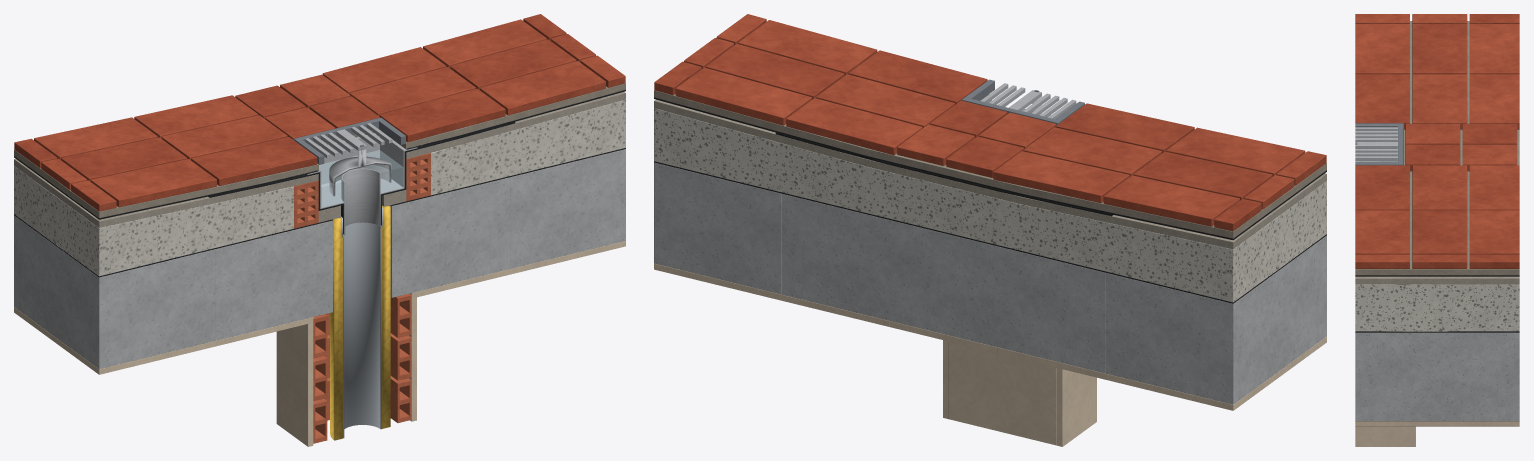
File: detalle3_cazoleta_sifonica.glb
3 views of the same model, side by side, from view 1: azimuth 30°, elevation 25°; view 2: azimuth 150°, elevation 25°; view 3: azimuth 270°, elevation 25° (orthographic). The views are drawn at different scales.
Visible parts, largest first — view 1: D3_Forjado, D3_Rasilla, D3_HormigonCelular, D3_Revestimiento, D3_Bajante, D3_FalseadoBricks, D3_FibraVidrio, D3_CazoletaBody, D3_Mortero16, D3_Mortero18, D3_PitBricks, D3_WaterSeal (+7 smaller); view 2: D3_Forjado, D3_Rasilla, D3_HormigonCelular, D3_Revestimiento, D3_Mortero16, D3_Mortero18, D3_RejillaGrate, D3_Membrana, D3_BarreraCortavapor, D3_RejillaFrame, D3_RefuerzoMembrana; view 3: D3_Rasilla, D3_Forjado, D3_HormigonCelular, D3_Mortero18, D3_Revestimiento, D3_RejillaGrate, D3_Mortero16, D3_RejillaFrame, D3_BarreraCortavapor, D3_Membrana.
Boxes of the visible parts, x1,y1,x2,y2 form: D3_Forjado: [14, 149, 625, 369]; D3_Rasilla: [14, 14, 625, 211]; D3_HormigonCelular: [14, 99, 625, 276]; D3_Revestimiento: [14, 241, 625, 446]; D3_Bajante: [340, 207, 383, 438]; D3_FalseadoBricks: [313, 293, 411, 443]; D3_FibraVidrio: [330, 205, 390, 440]; D3_CazoletaBody: [307, 133, 417, 235]; D3_Mortero16: [14, 92, 625, 227]; D3_Mortero18: [14, 83, 625, 218]; D3_PitBricks: [294, 153, 430, 228]; D3_WaterSeal: [319, 150, 403, 207]; D3_Forjado: [654, 162, 1326, 404]; D3_Rasilla: [654, 14, 1326, 231]; D3_HormigonCelular: [654, 108, 1326, 302]; D3_Revestimiento: [654, 263, 1326, 446]; D3_Mortero16: [654, 99, 1326, 249]; D3_Mortero18: [654, 90, 1326, 238]; D3_RejillaGrate: [980, 83, 1076, 118]; D3_Membrana: [654, 97, 1326, 240]; D3_BarreraCortavapor: [654, 161, 1326, 303]; D3_RejillaFrame: [962, 79, 1084, 125]; D3_RefuerzoMembrana: [775, 132, 1112, 216]; D3_Rasilla: [1355, 14, 1519, 268]; D3_Forjado: [1355, 332, 1519, 421]; D3_HormigonCelular: [1355, 284, 1519, 331]; D3_Mortero18: [1355, 21, 1519, 275]; D3_Revestimiento: [1355, 421, 1519, 446]; D3_RejillaGrate: [1355, 127, 1397, 161]; D3_Mortero16: [1355, 276, 1519, 284]; D3_RejillaFrame: [1355, 123, 1403, 165]; D3_BarreraCortavapor: [1355, 331, 1519, 332]; D3_Membrana: [1355, 275, 1519, 276].
Size of the model in its own units: 1.5 by 0.7986 by 0.42.
Materials: 15 (13 with a texture image).
